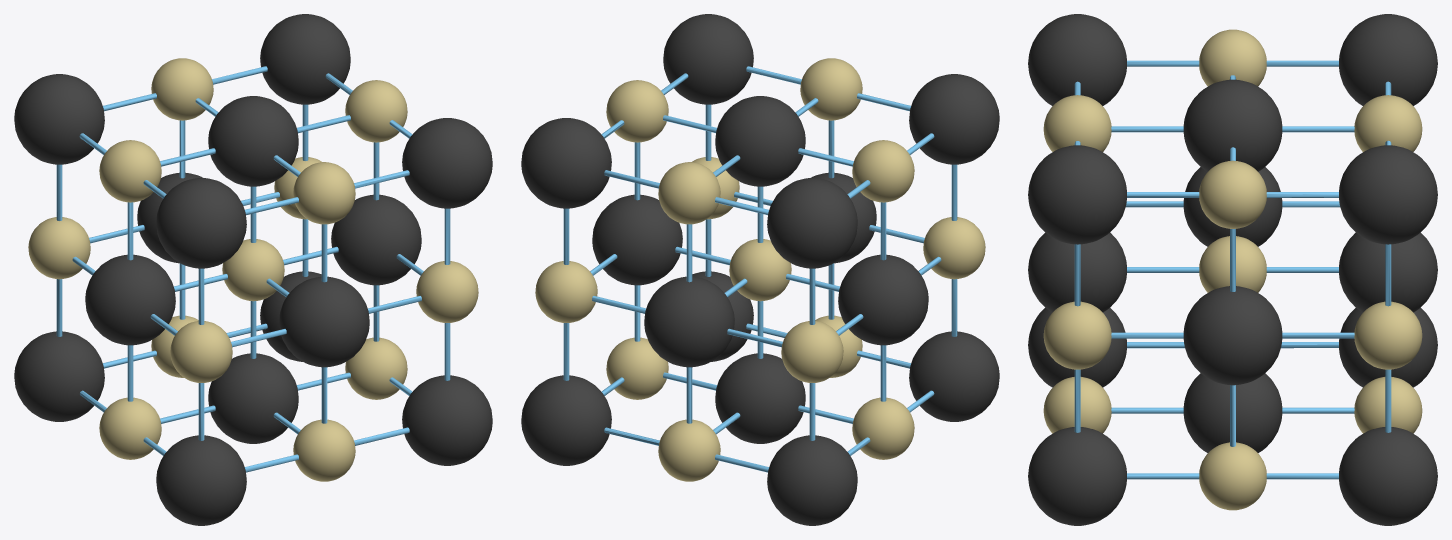
The model's file is lizi3.FBX.
3 renders of one model, left to right at view 1: azimuth 30°, elevation 25°; view 2: azimuth 150°, elevation 25°; view 3: azimuth 270°, elevation 25°, orthographic. The views are drawn at different scales.
Parts seen in each view (by area): view 1: 图形009, Sphere349, Sphere353, Sphere350, Sphere351, Sphere360, Sphere347, Sphere348, Sphere352, Sphere354, Sphere357, Sphere356 (+16 smaller); view 2: 图形009, Sphere347, Sphere354, Sphere348, Sphere355, Sphere359, Sphere349, Sphere350, Sphere352, Sphere353, Sphere357, Sphere356 (+16 smaller); view 3: 图形009, Sphere350, Sphere348, Sphere351, Sphere355, Sphere358, Sphere347, Sphere349, Sphere352, Sphere359, Sphere360, Sphere356 (+13 smaller).
Boxes of the visible parts, x1,y1,x2,y2 form: 图形009: [56, 66, 450, 472]; Sphere349: [156, 178, 246, 268]; Sphere353: [156, 435, 246, 525]; Sphere350: [402, 118, 492, 208]; Sphere351: [402, 375, 492, 465]; Sphere360: [279, 276, 369, 367]; Sphere347: [14, 74, 104, 164]; Sphere348: [260, 14, 350, 104]; Sphere352: [208, 96, 298, 186]; Sphere354: [14, 331, 104, 421]; Sphere357: [85, 254, 175, 345]; Sphere356: [208, 353, 298, 443]; 图形009: [563, 66, 957, 472]; Sphere347: [767, 178, 857, 268]; Sphere354: [767, 435, 857, 525]; Sphere348: [521, 118, 611, 208]; Sphere355: [521, 375, 611, 465]; Sphere359: [644, 276, 734, 367]; Sphere349: [909, 74, 999, 164]; Sphere350: [663, 14, 753, 104]; Sphere352: [715, 96, 805, 186]; Sphere353: [909, 331, 999, 421]; Sphere357: [838, 254, 928, 345]; Sphere356: [715, 353, 805, 443]; 图形009: [1074, 60, 1391, 479]; Sphere350: [1028, 145, 1126, 244]; Sphere348: [1339, 145, 1437, 244]; Sphere351: [1028, 427, 1126, 525]; Sphere355: [1339, 427, 1437, 525]; Sphere358: [1183, 286, 1282, 385]; Sphere347: [1339, 14, 1437, 105]; Sphere349: [1028, 14, 1126, 105]; Sphere352: [1183, 79, 1282, 171]; Sphere359: [1339, 232, 1437, 312]; Sphere360: [1028, 232, 1126, 312]; Sphere356: [1183, 373, 1282, 452].
Bounding box in the file's own units: 66 × 66 × 66.
1 material, 1 textured.
